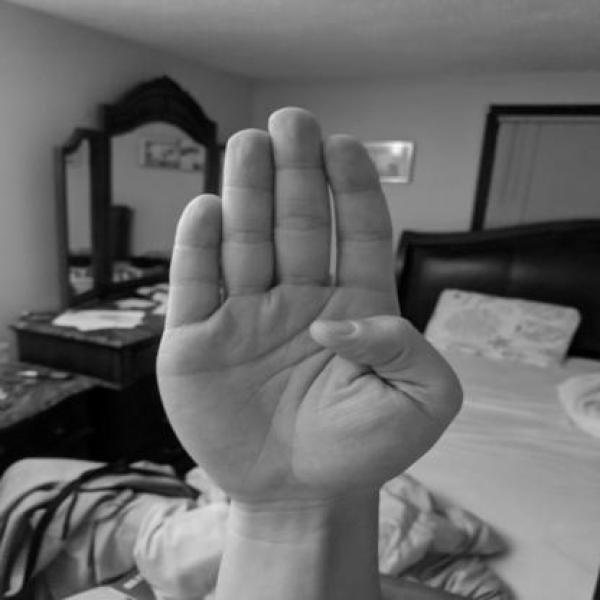B: (144, 100, 473, 509)
